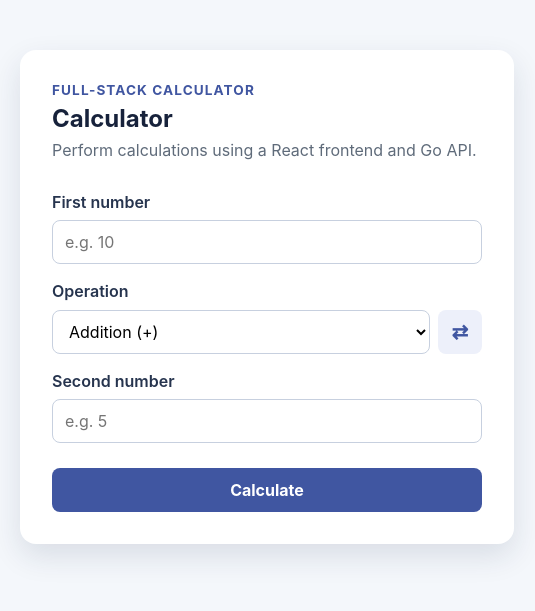
Scenario: Calculator app › shows an API error when division by zero is attempted
Type "10" into the number field labelled "First number" at (267, 242), box [52,220,482,264]
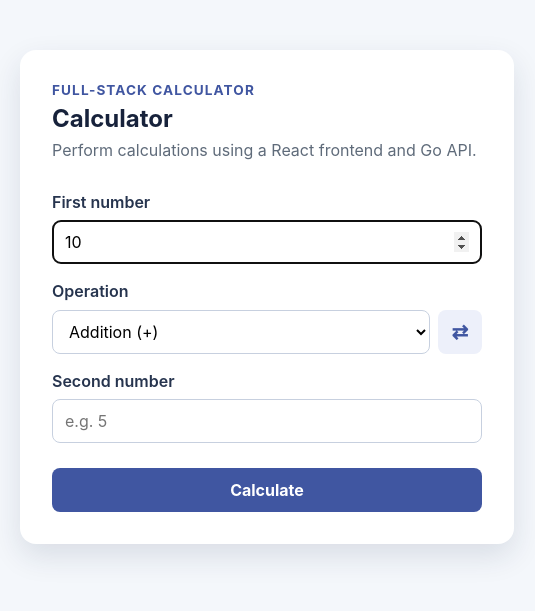
Select "Division (÷)" in the dropdown labelled "Operation" at (241, 332), box [52,310,430,354]
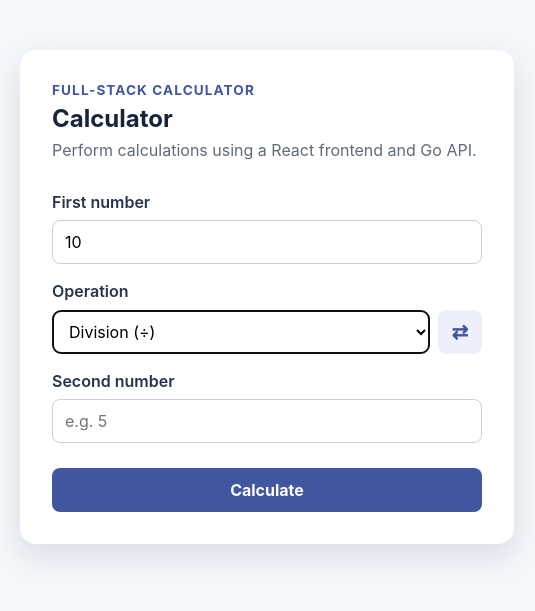
Type "0" into the number field labelled "Second number" at (267, 422), box [52,400,482,444]
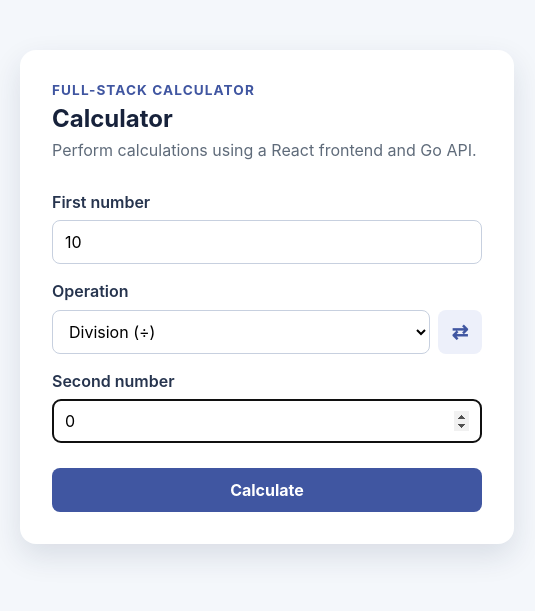
Click the button "Calculate" at (267, 490), box [52,468,482,512]
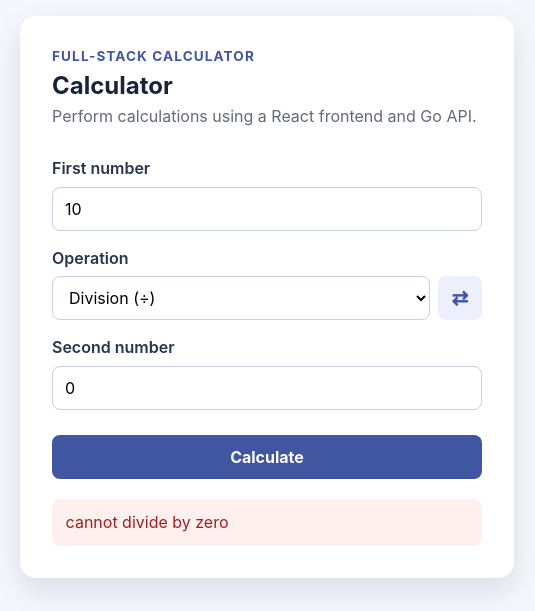
Result: the message reads "cannot divide by zero" at [66,512,228,532]
